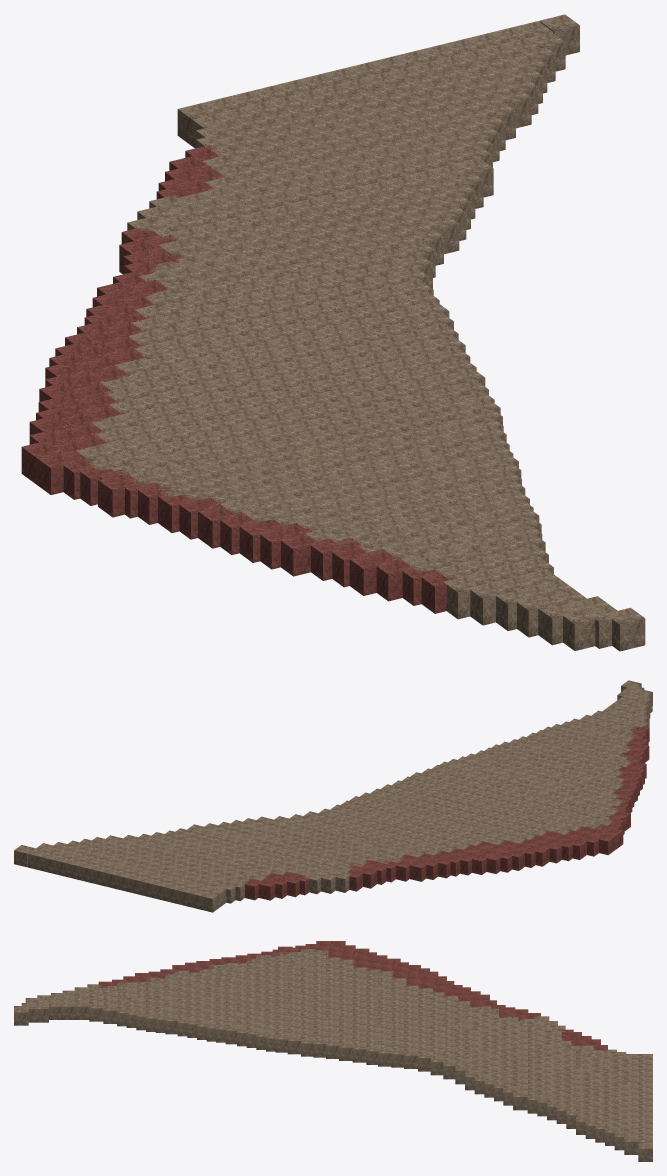
The model's file is alaIzq_VM.obj.
3 renders of one model, top to bottom at view 1: azimuth 30°, elevation 25°; view 2: azimuth 150°, elevation 25°; view 3: azimuth 270°, elevation 25°, orthographic. The views are drawn at different scales.
Parts seen in each view (by area): view 1: Box956; view 2: Box956; view 3: Box956.
Boxes of the visible parts, <box> form: Box956: <box>21,14,645,651</box>; Box956: <box>14,680,652,912</box>; Box956: <box>14,941,652,1161</box>.
Bounding box in the file's own units: 3.92 × 0.1181 × 5.1.
